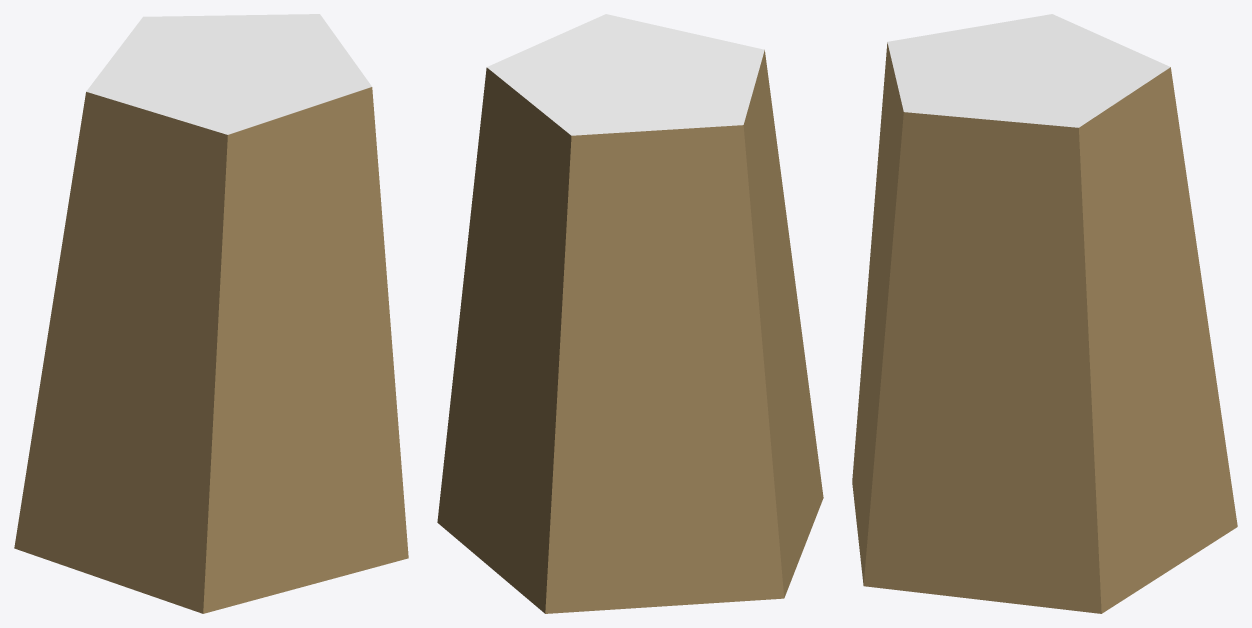
File: Apple_Stump_Snow_02.fbx
3 renders of one model, left to right at view 1: azimuth 30°, elevation 25°; view 2: azimuth 150°, elevation 25°; view 3: azimuth 270°, elevation 25°, orthographic. The views are drawn at different scales.
Visible parts, largest first — view 1: Apple_Stump_Snow_02; view 2: Apple_Stump_Snow_02; view 3: Apple_Stump_Snow_02.
Part boxes in pixels (<box>): Apple_Stump_Snow_02: <box>14,14,408,613</box>; Apple_Stump_Snow_02: <box>437,14,823,613</box>; Apple_Stump_Snow_02: <box>852,14,1237,613</box>.
Size of the model in its own units: 54.47 by 70.33 by 52.62.
